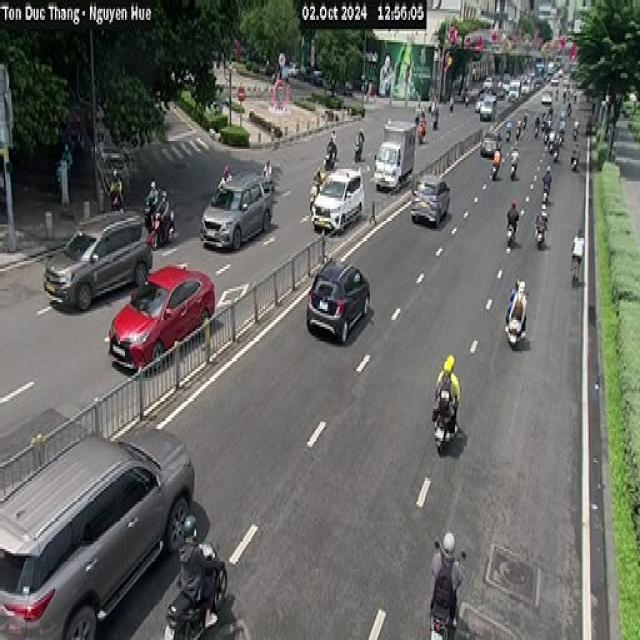car: (0, 418, 192, 640), (107, 262, 215, 374), (42, 209, 152, 311), (198, 169, 274, 249), (305, 256, 370, 342), (310, 167, 364, 233), (410, 173, 450, 227), (482, 127, 499, 165), (482, 86, 498, 122)
container-truck: (372, 116, 417, 191)
motorcycle: (153, 567, 239, 632), (416, 560, 465, 634), (432, 391, 458, 453), (504, 309, 526, 347), (139, 204, 171, 226), (153, 216, 180, 242), (304, 186, 326, 209), (350, 141, 370, 164), (320, 151, 343, 170), (487, 160, 503, 186), (534, 215, 546, 249), (538, 184, 552, 206), (505, 222, 516, 249), (414, 126, 430, 140), (431, 120, 444, 136), (509, 164, 522, 178)
person: (164, 513, 221, 638), (428, 531, 462, 638), (432, 353, 460, 431), (513, 267, 531, 323), (508, 267, 522, 322), (570, 229, 584, 284), (154, 195, 173, 233), (437, 362, 453, 407), (108, 167, 124, 211), (141, 175, 160, 212), (532, 197, 550, 233), (506, 198, 519, 246), (312, 149, 325, 192), (215, 164, 234, 187), (262, 158, 277, 186), (489, 149, 504, 176), (352, 128, 366, 154), (541, 163, 553, 190), (328, 130, 338, 155), (508, 149, 520, 166)
